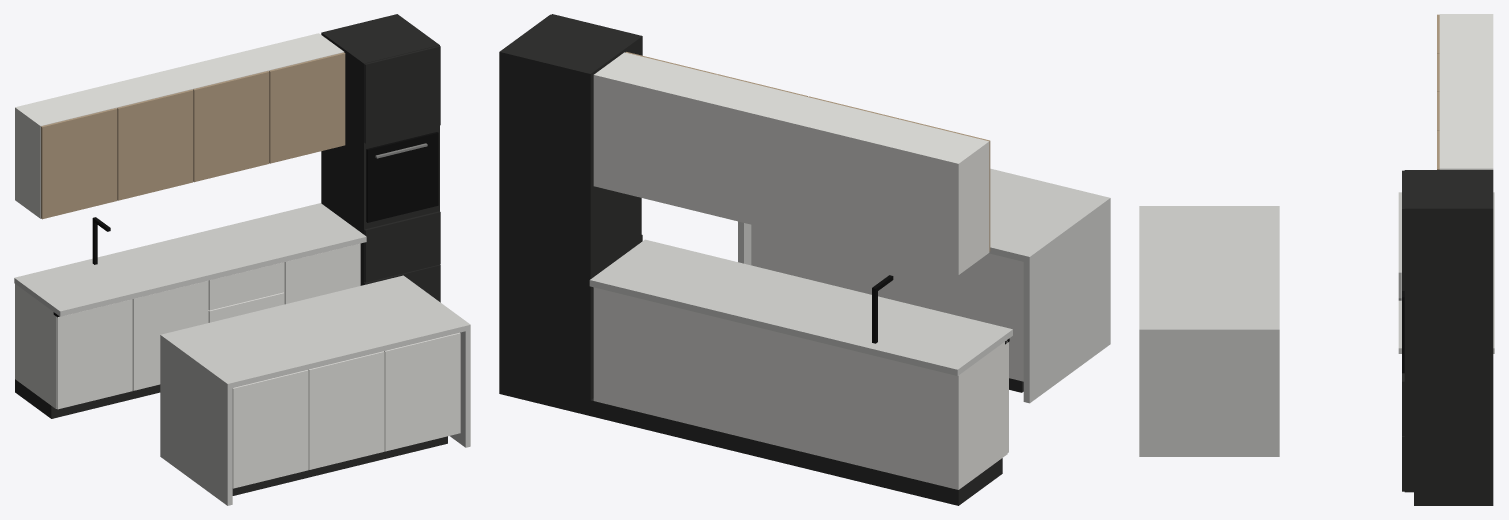
Rendered from cozinha.glb.
3 views of the same model, side by side, from view 1: azimuth 30°, elevation 25°; view 2: azimuth 150°, elevation 25°; view 3: azimuth 270°, elevation 25° (orthographic). The views are drawn at different scales.
Visible parts, largest first — view 1: cozinha; view 2: cozinha; view 3: cozinha.
Part boxes in pixels (bbox=[...]): cozinha: bbox=[14, 14, 470, 505]; cozinha: bbox=[499, 14, 1110, 505]; cozinha: bbox=[1139, 14, 1494, 505].
Bounding box in the file's own units: 3.02 × 2.15 × 2.33.
